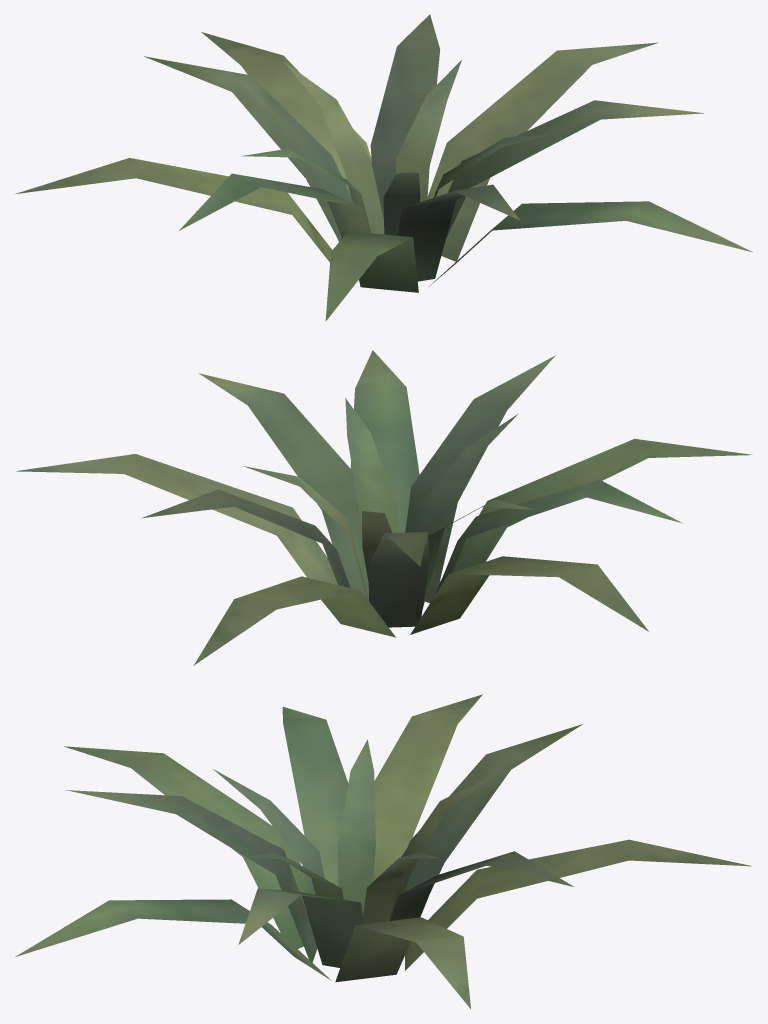
The model's file is MS_Plant_1.fbx.
3 renders of one model, top to bottom at view 1: azimuth 30°, elevation 25°; view 2: azimuth 150°, elevation 25°; view 3: azimuth 270°, elevation 25°, orthographic.
Visible parts, largest first — view 1: Plane; view 2: Plane; view 3: Plane.
Part boxes in pixels (x1,y1,x2,y2): Plane: [14, 14, 752, 321]; Plane: [16, 350, 752, 665]; Plane: [15, 694, 751, 1008].
Bounding box in the file's own units: 31.62 × 7.75 × 31.35.
